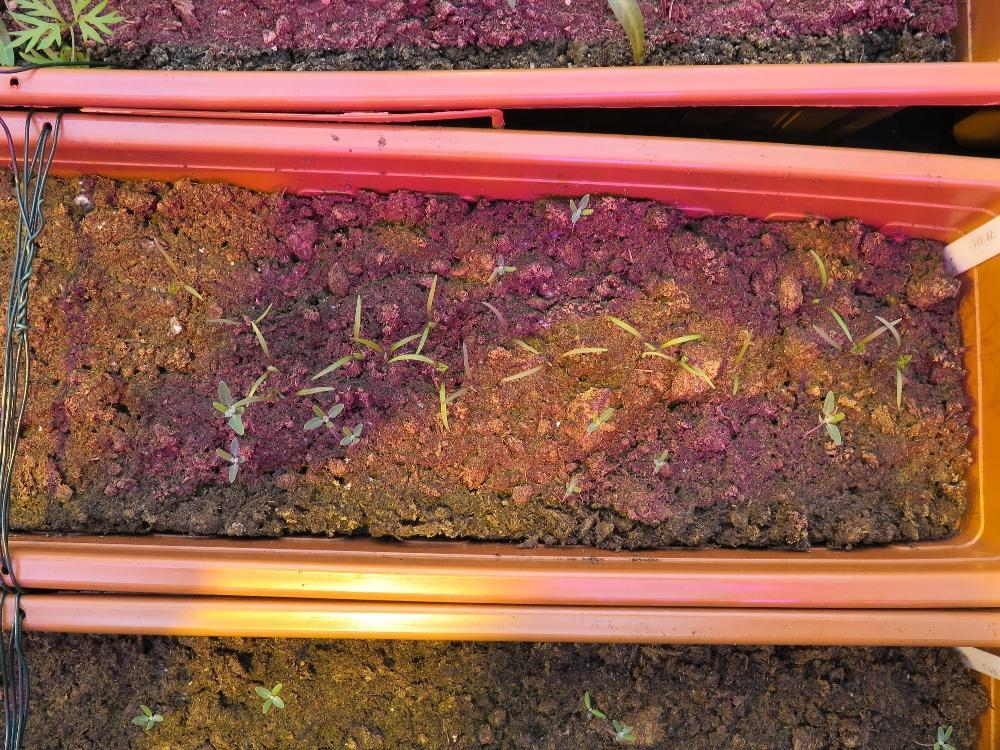weed: (816, 388, 845, 445), (213, 435, 244, 483), (301, 401, 343, 430), (253, 681, 284, 714), (484, 252, 516, 283), (130, 701, 163, 730), (567, 190, 593, 222), (584, 404, 612, 433), (583, 689, 605, 719), (338, 421, 363, 446), (610, 717, 636, 740), (651, 447, 668, 472), (562, 474, 581, 496)
